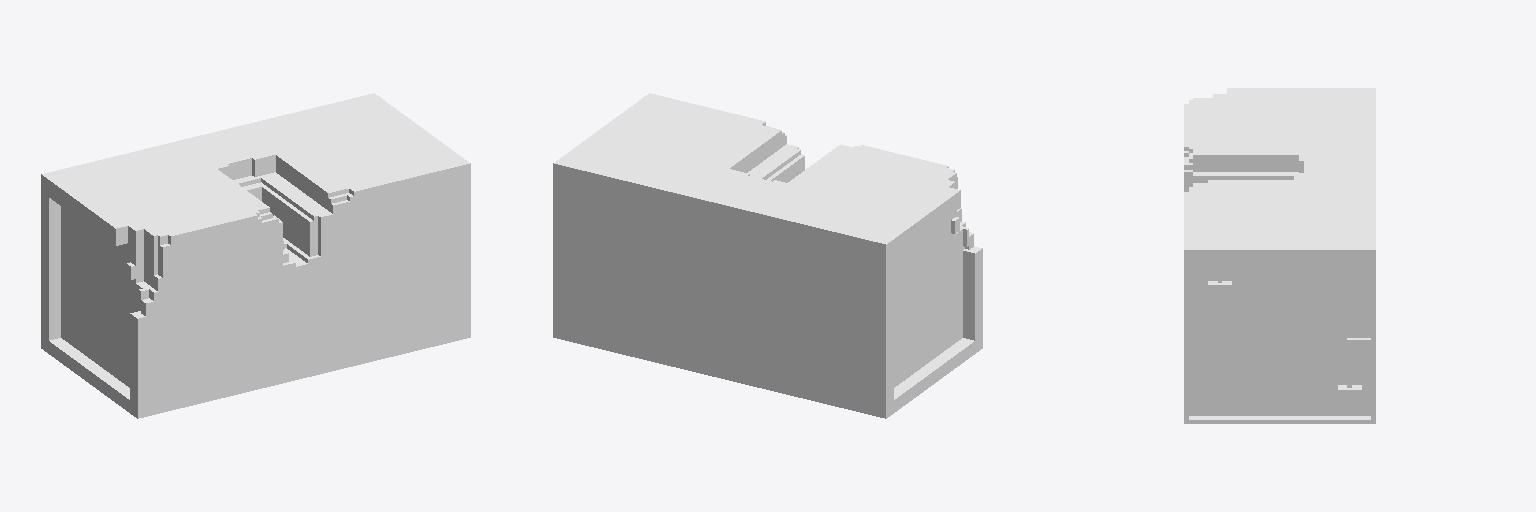
File: Road_straight-13.obj
The picture shows the model from 3 angles: view 1: azimuth 30°, elevation 25°; view 2: azimuth 150°, elevation 25°; view 3: azimuth 270°, elevation 25°; orthographic projection.
Visible parts, largest first — view 1: Road_straight-13; view 2: Road_straight-13; view 3: Road_straight-13.
Boxes of the visible parts, <box> form: Road_straight-13: <box>41,93,470,418</box>; Road_straight-13: <box>553,93,982,418</box>; Road_straight-13: <box>1184,88,1375,423</box>.
Size of the model in its own units: 80 by 40 by 40.